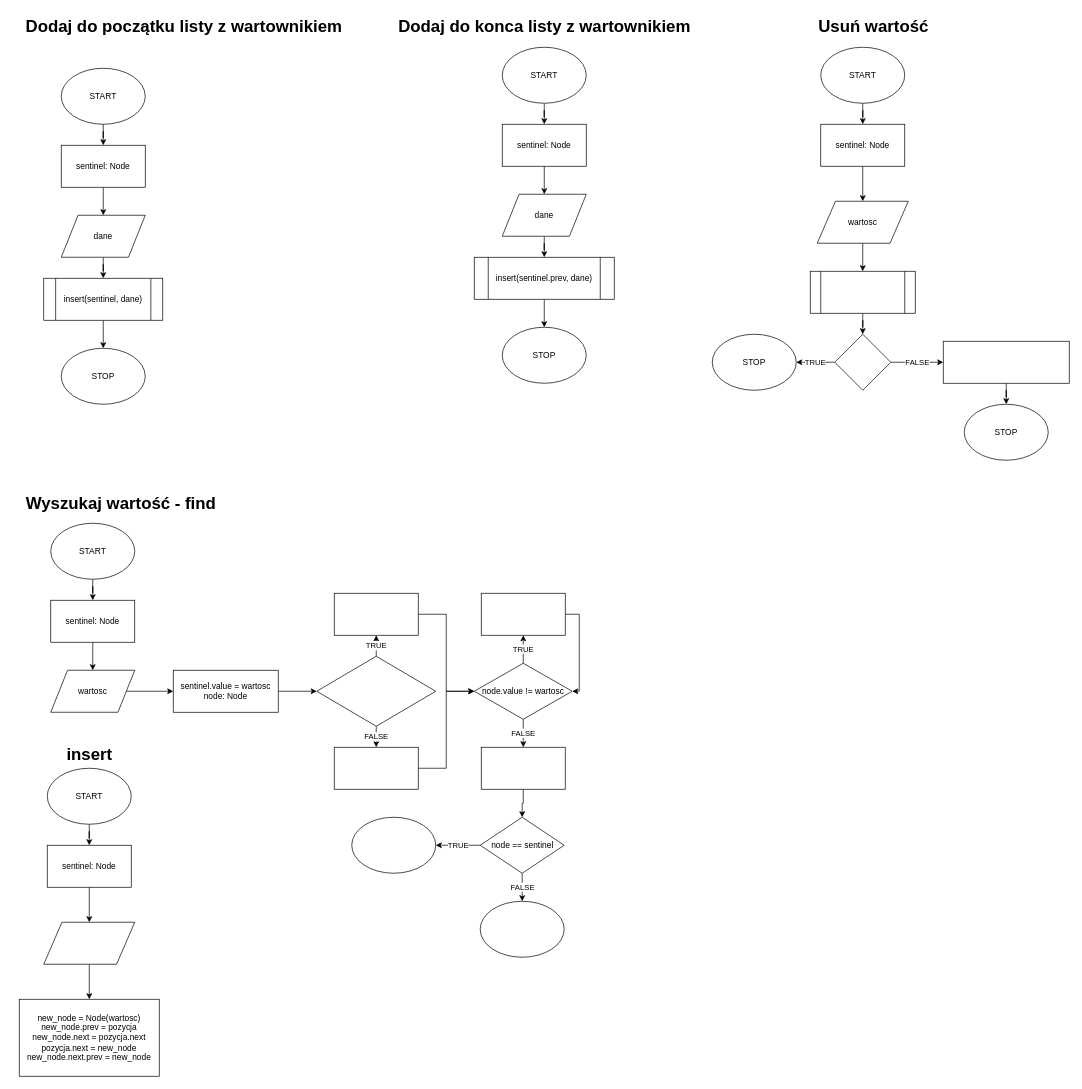
Image size: 1082x1089. Some labels were removed from this diagram. Each missing label, with the centre of its shape:
node = find(wartosc): the point at 862,292
node = node.next: the point at 523,614
node = null: the point at 376,614
node = sentinel.next: the point at 376,768
node == null: the point at 862,362
node.prev.next = node.next node.next.prev = node.prev: the point at 1006,362
RETURN node: the point at 521,929
RETURN null: the point at 393,845
sentinel.next == sentinel: the point at 376,691
sentinel.value = null: the point at 523,768
wartosc, pozycja: the point at 89,943
